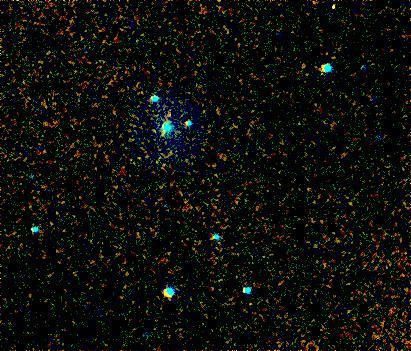star: (322, 0, 352, 19)
